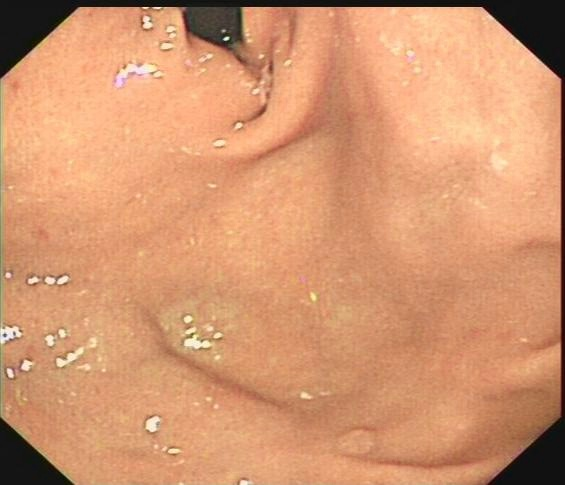Polyp: (325, 406, 394, 464)
